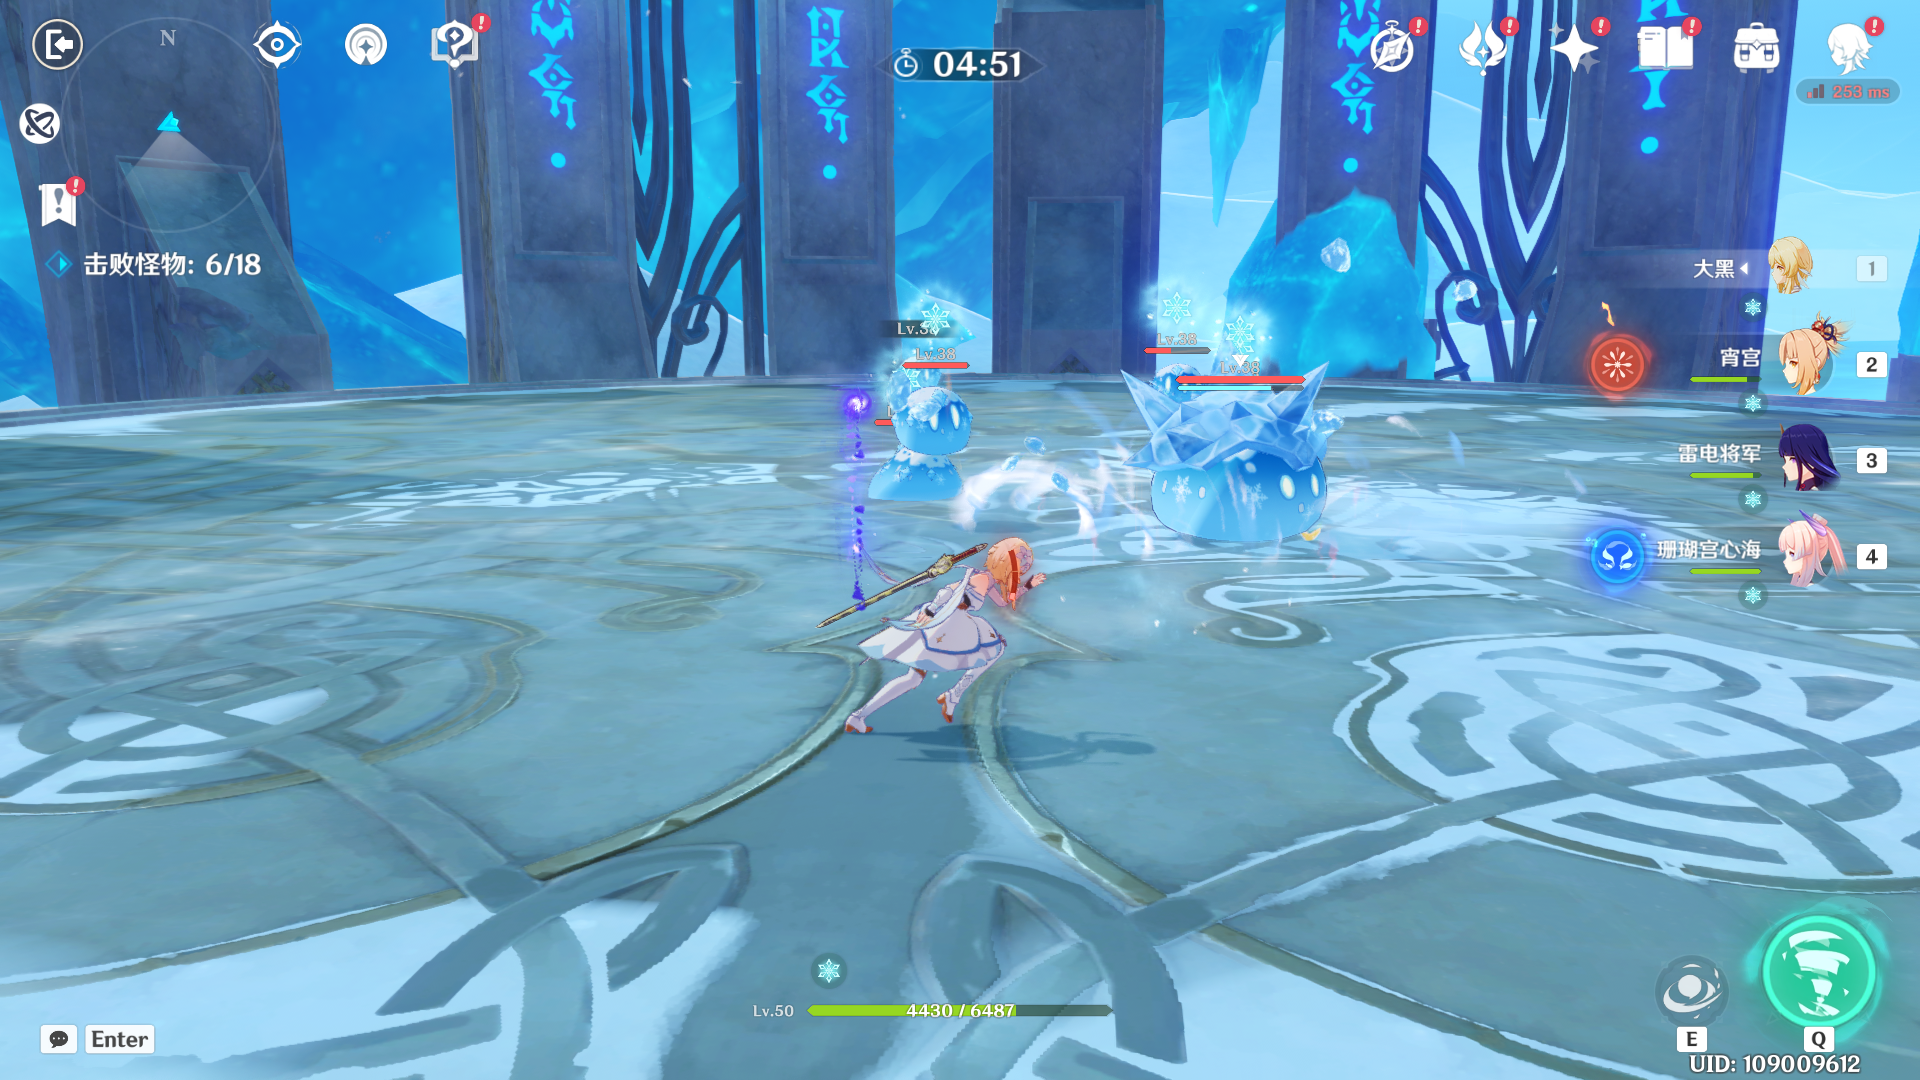character: (800, 510, 1095, 774)
slime: (1091, 338, 1377, 567), (844, 436, 982, 520), (876, 384, 984, 460)
